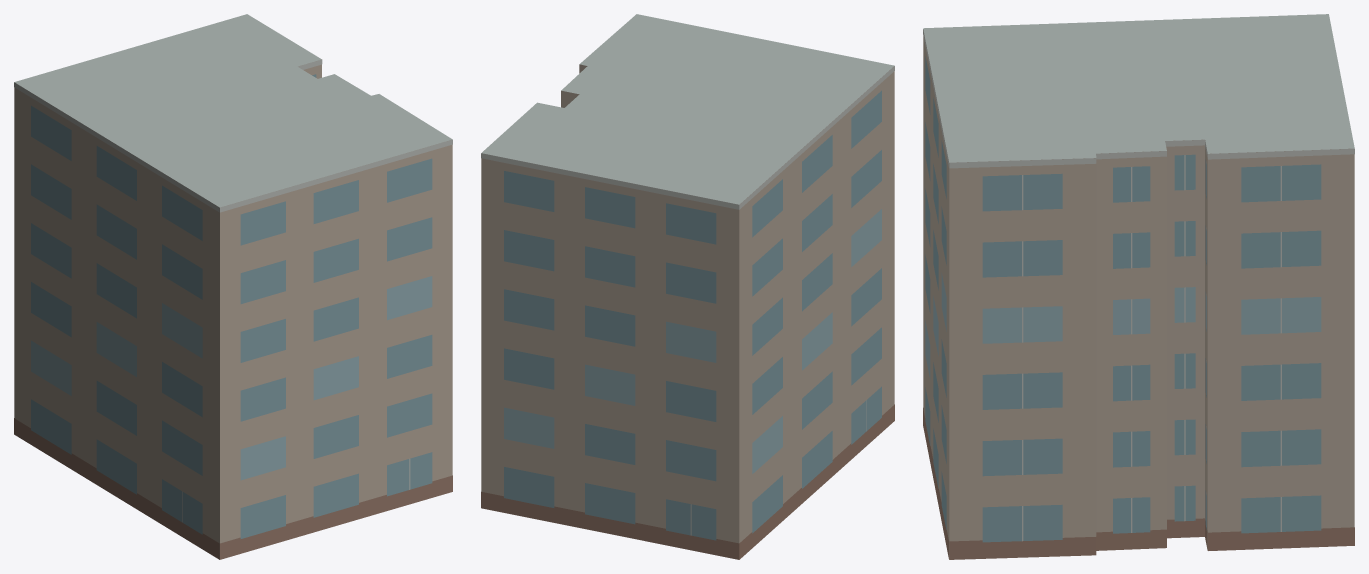
The model's file is survey-upis-32968604.glb.
3 views of the same model, side by side, from view 1: azimuth 30°, elevation 25°; view 2: azimuth 150°, elevation 25°; view 3: azimuth 270°, elevation 25° (orthographic). The views are drawn at different scales.
Visible parts, largest first — view 1: survey-upis-32968604.tmp; view 2: survey-upis-32968604.tmp; view 3: survey-upis-32968604.tmp.
Boxes of the visible parts, x1,y1,x2,y2 form: survey-upis-32968604.tmp: (14, 14, 452, 559); survey-upis-32968604.tmp: (481, 14, 894, 559); survey-upis-32968604.tmp: (923, 14, 1354, 559).
Bounding box in the file's own units: 13.54 × 16.85 × 16.61.
